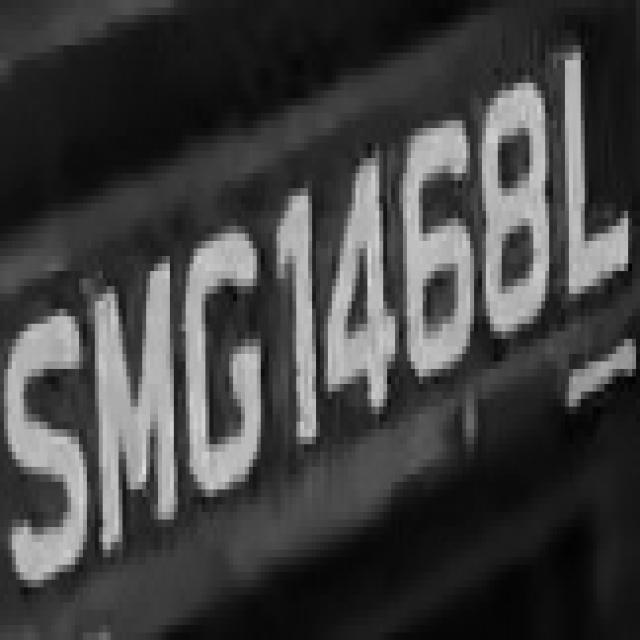1: (276, 143, 328, 505)
4: (320, 151, 399, 444)
6: (395, 105, 478, 399)
8: (466, 75, 561, 354)
G: (174, 211, 268, 519)
L: (545, 30, 624, 301)
M: (95, 241, 182, 550)
S: (0, 279, 99, 625)
